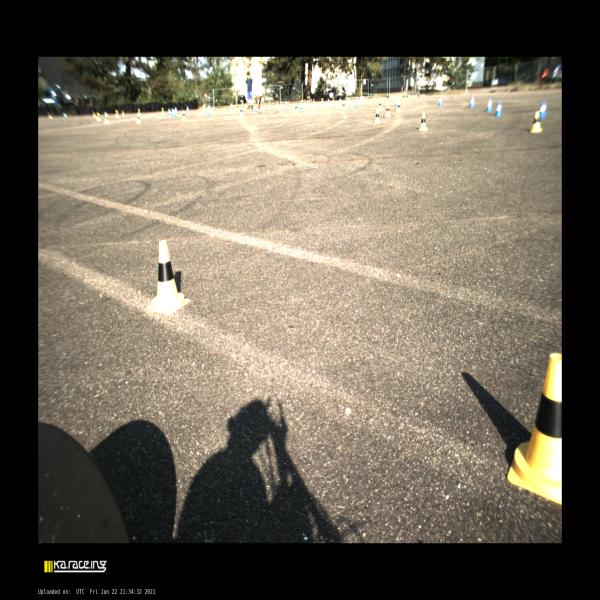blue_cone: (540, 101, 547, 118), (495, 102, 502, 116), (486, 99, 492, 112), (469, 96, 475, 108), (438, 96, 443, 106)
yellow_cone: (507, 353, 561, 505), (146, 240, 190, 315), (530, 111, 542, 133), (418, 113, 428, 131), (374, 108, 381, 124), (385, 104, 391, 117), (396, 101, 402, 113)
